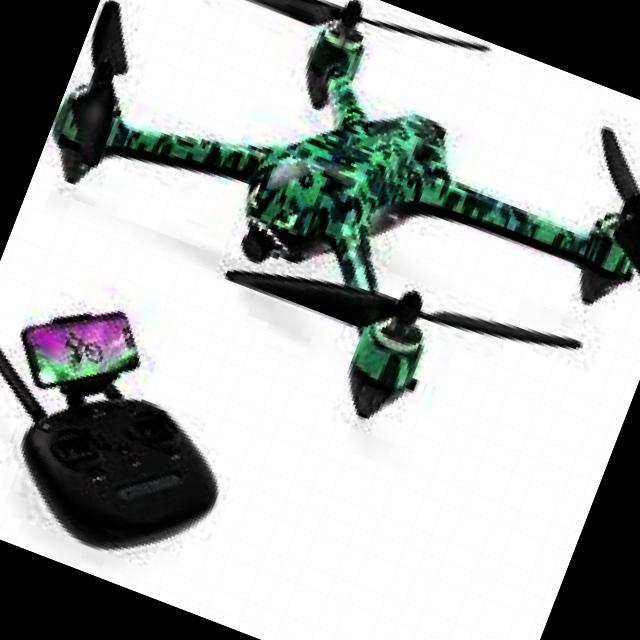drone: (0, 0, 640, 513)
